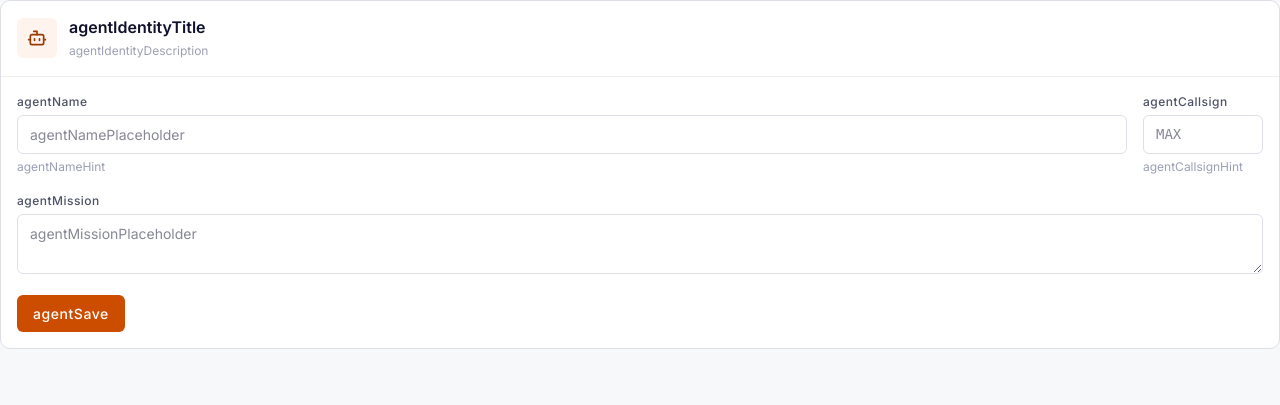
Test: AgentIdentityForm › auto-suggests callsign from agent name as first 3 chars uppercase
This screenshot has width=1280, height=405.
Type "Axiom" into the field with placeholder "agentNamePlaceholder" at {"x": 572, "y": 134}, box [17, 115, 1127, 154]
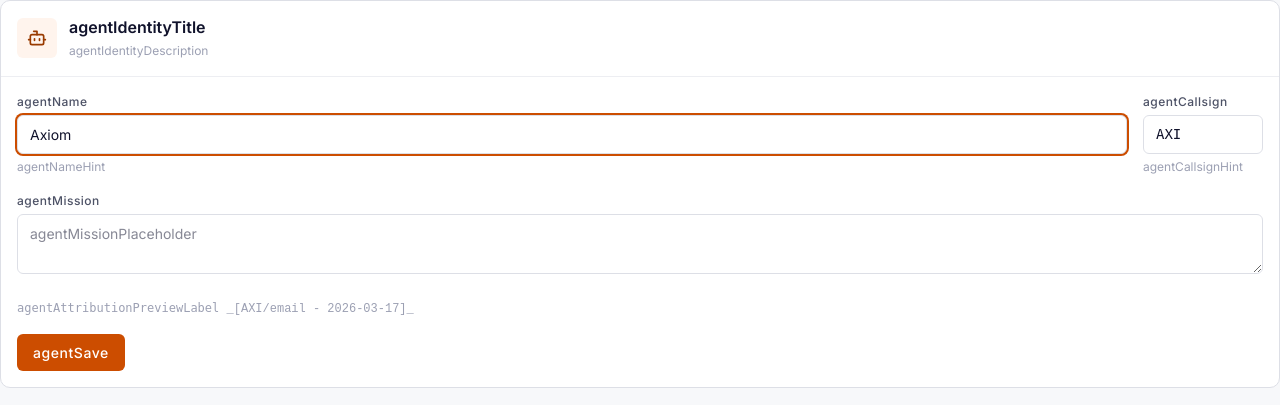
expect the field showing "AXI" is shown: met, box [1143, 115, 1263, 154]
